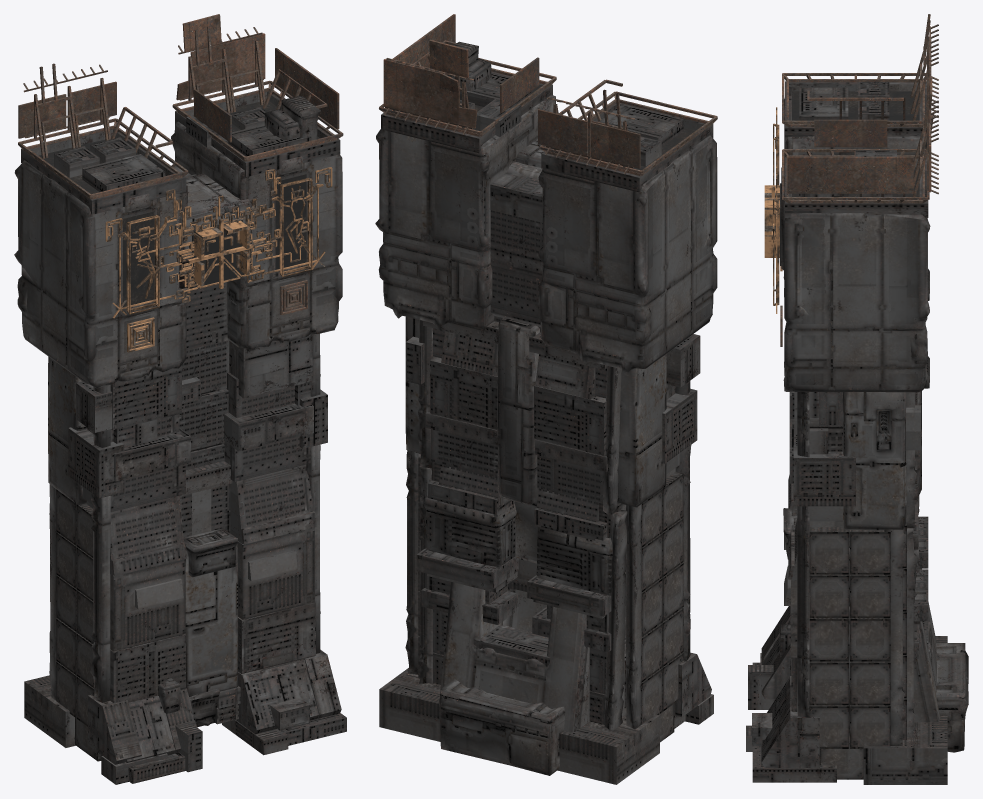
Rendered from LOC0_2.fbx.
The picture shows the model from 3 angles, left to right: view 1: azimuth 30°, elevation 25°; view 2: azimuth 150°, elevation 25°; view 3: azimuth 270°, elevation 25°; orthographic projection. The views are drawn at different scales.
Visible parts, largest first — view 1: CityAsset-13.010, CityAsset-13.009, Plane.003, QuickShape.095, QuickShape.083, Techblock-9.075, pip.066, QuickShape.089, QuickShape.088, pip.069, pip.058, QuickShape.097 (+61 smaller); view 2: CityAsset-13.010, CityAsset-13.009, CityAsset-10.002, Plane.003, Techblock-9.088, Techblock-9.087, Techblock-9.083, QuickShape.144, QuickShape.185, CityAsset-3-Apartments_3.084, QuickShape.147, CityAsset-3-Apartments_3.083 (+54 smaller); view 3: CityAsset-13.009, Techblock-9.084, Plane.003, QuickShape.184, pip.069, QuickShape.099, pip.058, CityAsset-3-Apartments_3.059, Techblock-9.088, CityAsset-3-Apartments_3.055, QuickShape.110, CityAsset-10.002 (+38 smaller).
Boxes of the visible parts, x1,y1,x2,y2 form: CityAsset-13.010: (14,160,187,388); CityAsset-13.009: (171,121,342,350); Plane.003: (18,14,339,142); QuickShape.095: (223,372,316,544); QuickShape.083: (82,414,187,576); Techblock-9.075: (185,544,237,696); pip.066: (105,167,332,318); QuickShape.089: (237,527,314,619); QuickShape.088: (110,559,185,651); pip.069: (18,63,188,199); pip.058: (172,26,343,161); QuickShape.097: (238,602,315,673); CityAsset-13.010: (538,135,717,373); CityAsset-13.009: (375,94,555,330); CityAsset-10.002: (439,582,590,732); Plane.003: (383,14,640,168); Techblock-9.088: (438,679,565,775); Techblock-9.087: (497,317,539,505); Techblock-9.083: (617,354,666,507); QuickShape.144: (490,210,542,332); QuickShape.185: (557,707,659,784); CityAsset-3-Apartments_3.084: (425,496,516,566); QuickShape.147: (534,386,606,456); CityAsset-3-Apartments_3.083: (536,527,612,595); CityAsset-13.009: (783,176,930,392); Techblock-9.084: (842,392,906,530); Plane.003: (787,39,933,193); QuickShape.184: (863,716,947,784); pip.069: (782,14,938,126); QuickShape.099: (793,445,855,506); pip.058: (782,90,938,203); CityAsset-3-Apartments_3.059: (884,529,906,745); Techblock-9.088: (849,643,968,752); CityAsset-3-Apartments_3.055: (797,506,809,717); QuickShape.110: (761,707,819,767); CityAsset-10.002: (849,568,940,722).
Size of the model in its own units: 143 by 356 by 106.
